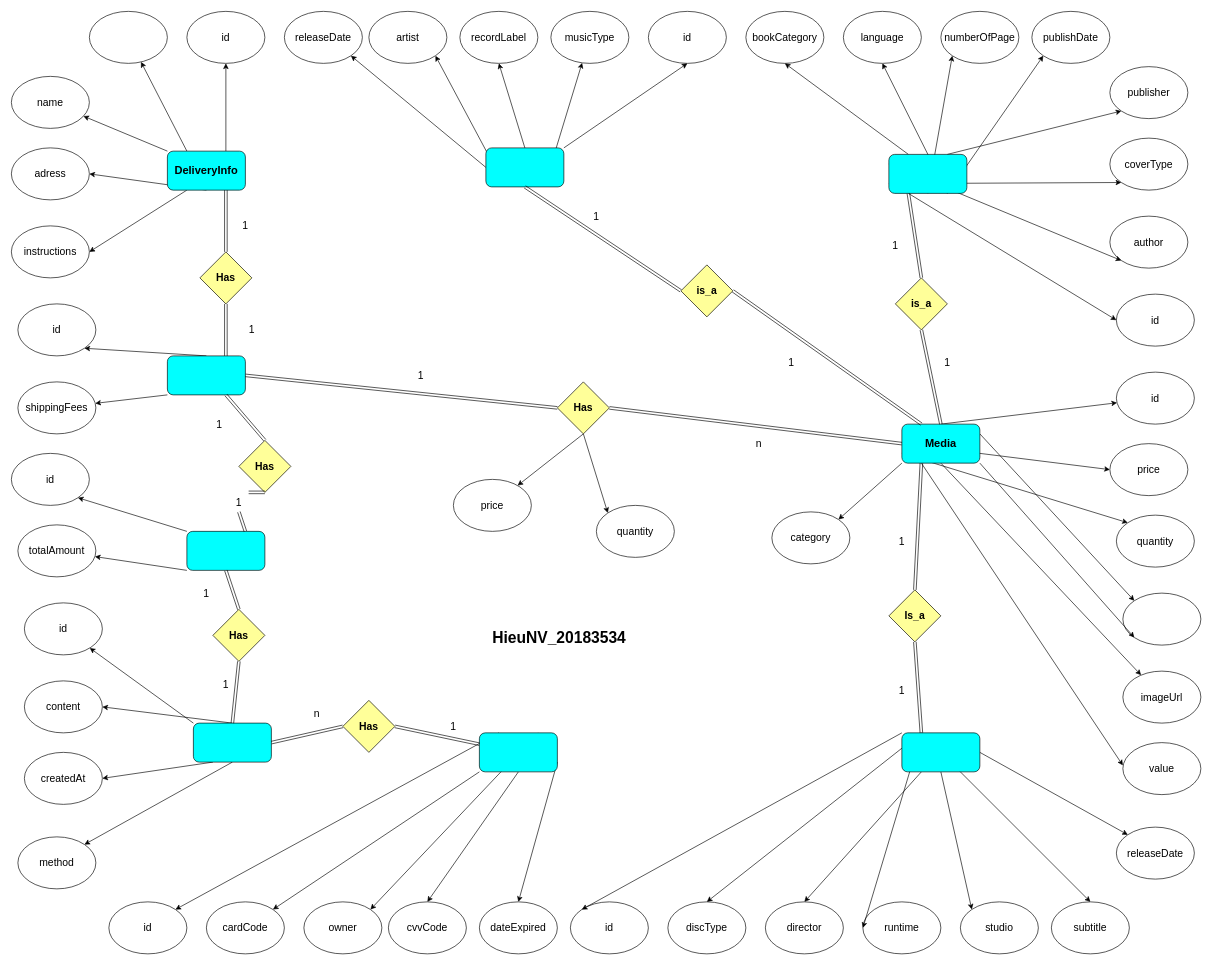
Some shapes in this 1212 by 965 pixel diagram are drawn without their labels. The shapes that lost their labels are listed below. From the top down, each one's centre as x and y in pixels, then its label:
At pixel 128 37: "province".
At pixel 524 167: "CD".
At pixel 927 173: "Book".
At pixel 206 375: "Order".
At pixel 225 550: "Invoice".
At pixel 1161 618: "title".
At pixel 232 742: "PaymentTransaction".
At pixel 518 752: "Card".
At pixel 940 752: "DVD".
